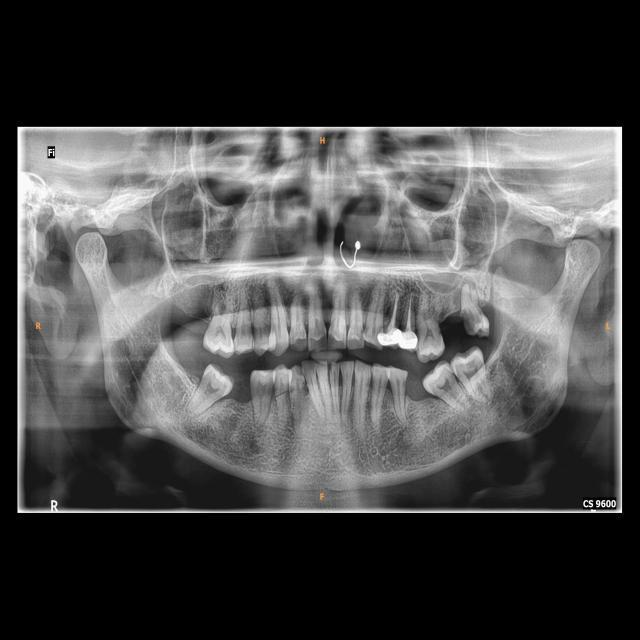dentin-curugu: (462, 307, 481, 331), (310, 336, 327, 350), (293, 335, 307, 350), (329, 332, 342, 348)
kanal-tedavisi: (388, 291, 399, 330), (404, 294, 414, 332)
kaplama: (400, 330, 418, 350), (380, 328, 400, 345)
